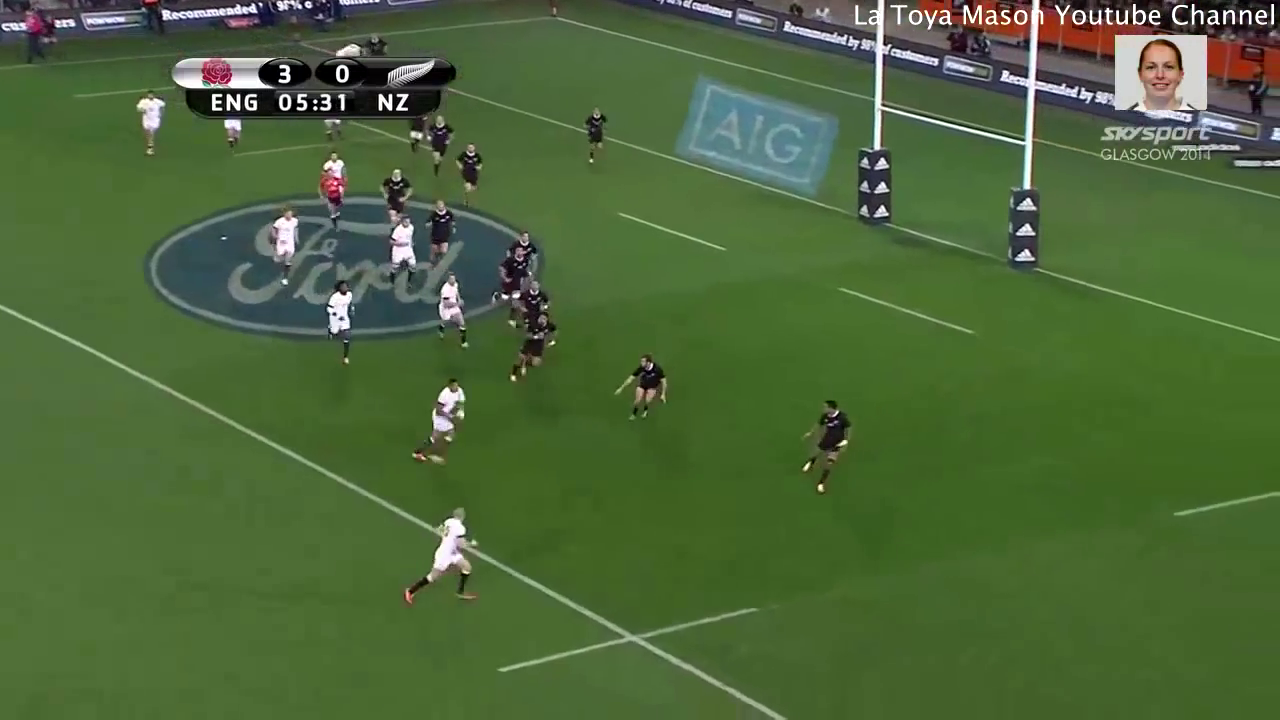corner_flag: (286, 12, 305, 48)
player: (401, 501, 481, 606), (794, 397, 855, 504), (406, 376, 469, 468), (610, 351, 678, 434), (510, 315, 557, 387), (265, 208, 301, 292), (432, 272, 469, 351), (132, 87, 169, 160), (322, 279, 353, 366), (452, 141, 485, 212), (490, 250, 524, 313), (425, 112, 456, 180), (388, 216, 422, 278), (318, 165, 345, 227), (581, 106, 609, 165), (428, 201, 451, 269), (378, 164, 410, 212), (515, 280, 554, 309), (219, 119, 246, 156), (506, 229, 537, 251), (320, 152, 348, 176), (321, 120, 345, 146)
post: (852, 26, 1043, 273)
